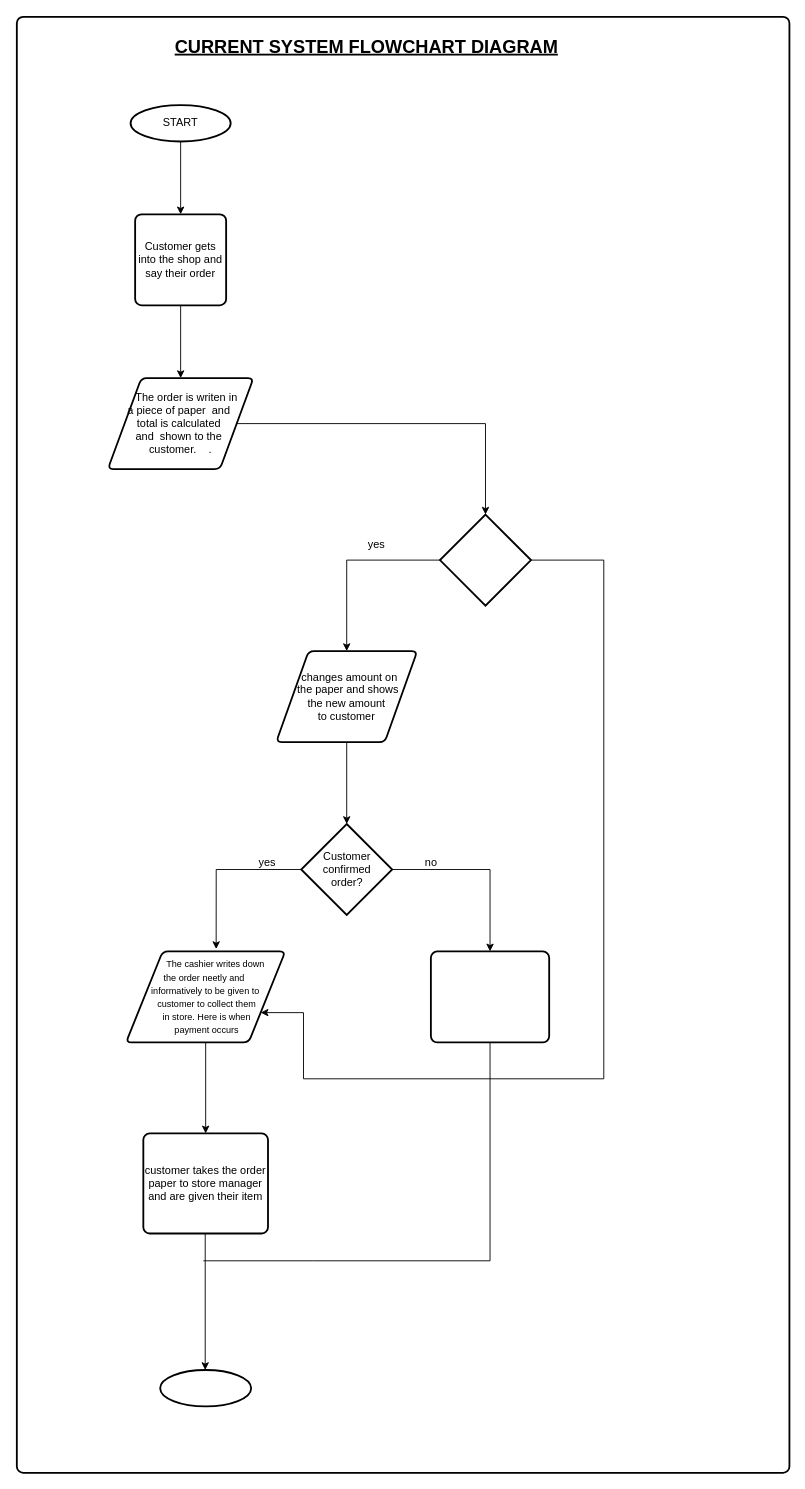
Some shapes in this 805 by 1489 pixel diagram are drawn without their labels. Each missing label, with the centre of its shape:
END: (x=205, y=1388)
folds the paper and attend to another customer: (x=490, y=996)
if customer asks for discount && possible: (x=485, y=559)
